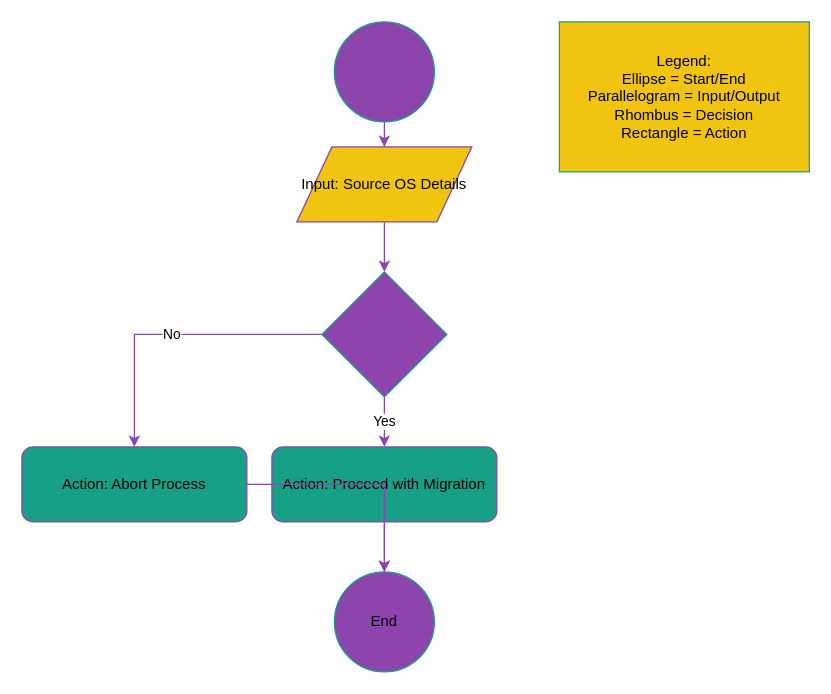
This 831x694 diagram has some shape labels left out. The shapes that lost their labels are listed below. From the top down, each one's centre as x and y in pixels, then its label:
point 383,71: Start
point 384,334: Is OS Compatible?
